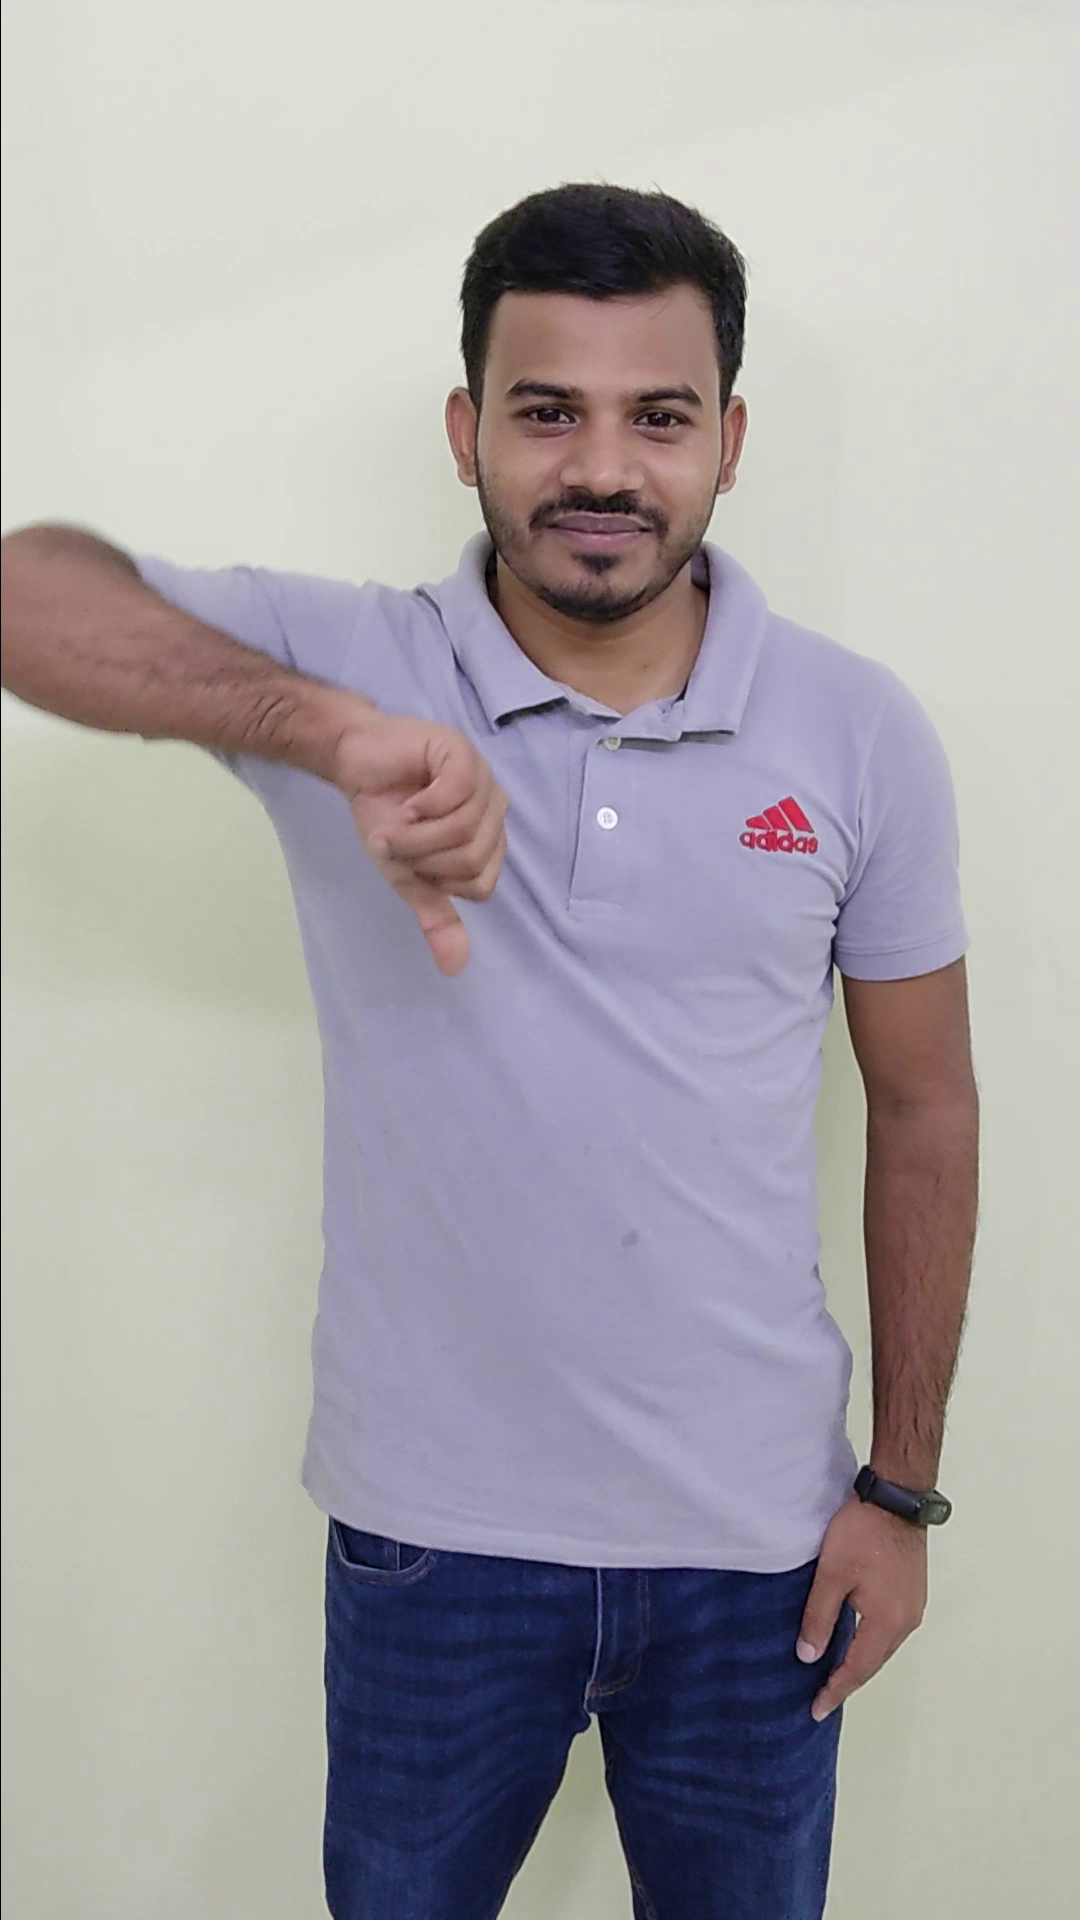Dislike: (324, 659, 525, 996)
None: (783, 1448, 963, 1733)
